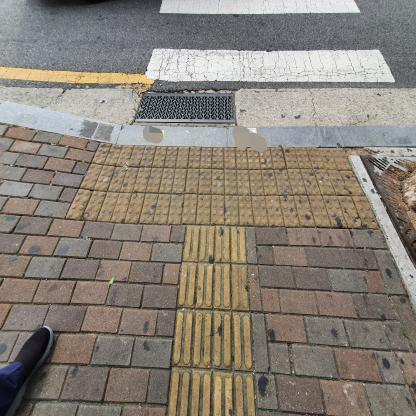podotacti: (57, 132, 380, 236), (162, 218, 268, 415)
